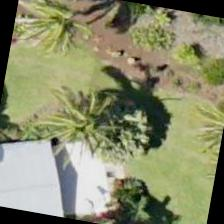Kelapa_Sawit: (35, 75, 139, 179), (8, 0, 109, 74)
